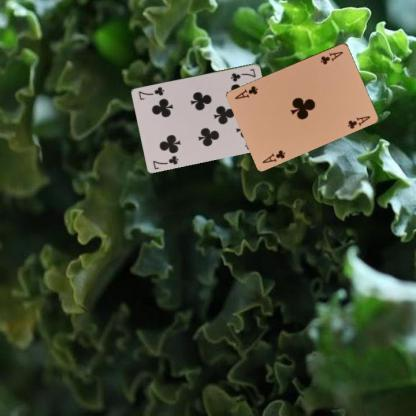7c: (150, 153, 180, 171), (228, 66, 257, 82)
Ac: (318, 48, 344, 66), (260, 147, 286, 164)
